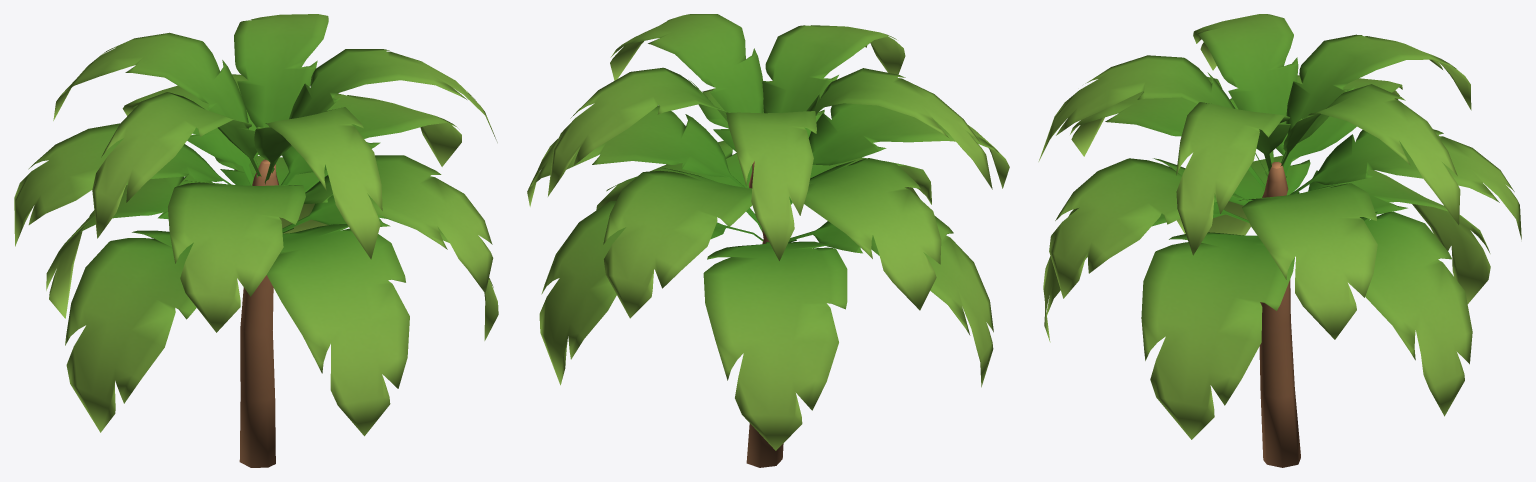
File: palmerilla3.fbx
3 renders of one model, left to right at view 1: azimuth 30°, elevation 25°; view 2: azimuth 150°, elevation 25°; view 3: azimuth 270°, elevation 25°, orthographic.
Parts seen in each view (by area): view 1: palmerilla3; view 2: palmerilla3; view 3: palmerilla3.
Boxes of the visible parts, x1,y1,x2,y2 form: palmerilla3: (14,14,498,467); palmerilla3: (527,14,1009,467); palmerilla3: (1038,14,1521,467).
Bounding box in the file's own units: 219 × 196 × 219.
1 material, 1 textured.
